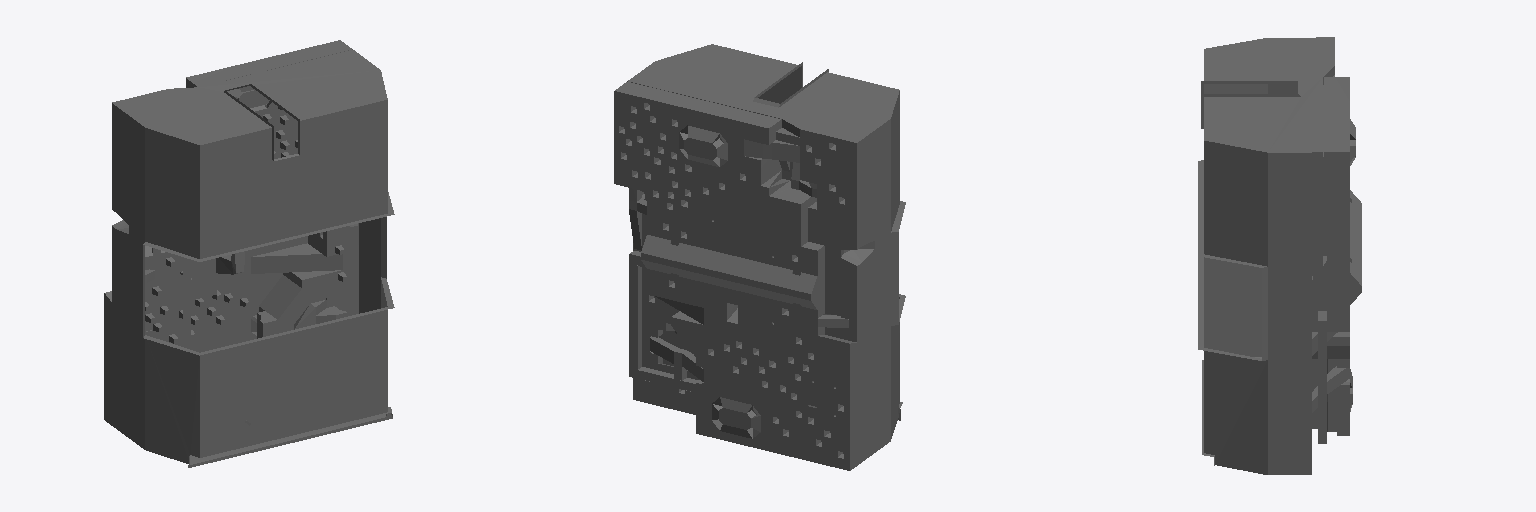
Rendered from hangemhigh_BSP_Scaled.obj.
The picture shows the model from 3 angles: view 1: azimuth 30°, elevation 25°; view 2: azimuth 150°, elevation 25°; view 3: azimuth 270°, elevation 25°; orthographic projection.
Visible parts, largest first — view 1: HangemHigh; view 2: HangemHigh; view 3: HangemHigh.
Boxes of the visible parts, box(x1,y1,x2,y2) form: HangemHigh: box(104, 40, 394, 467); HangemHigh: box(614, 44, 905, 470); HangemHigh: box(1198, 37, 1361, 474).
Bounding box in the file's own units: 29.98 × 38.65 × 17.44.